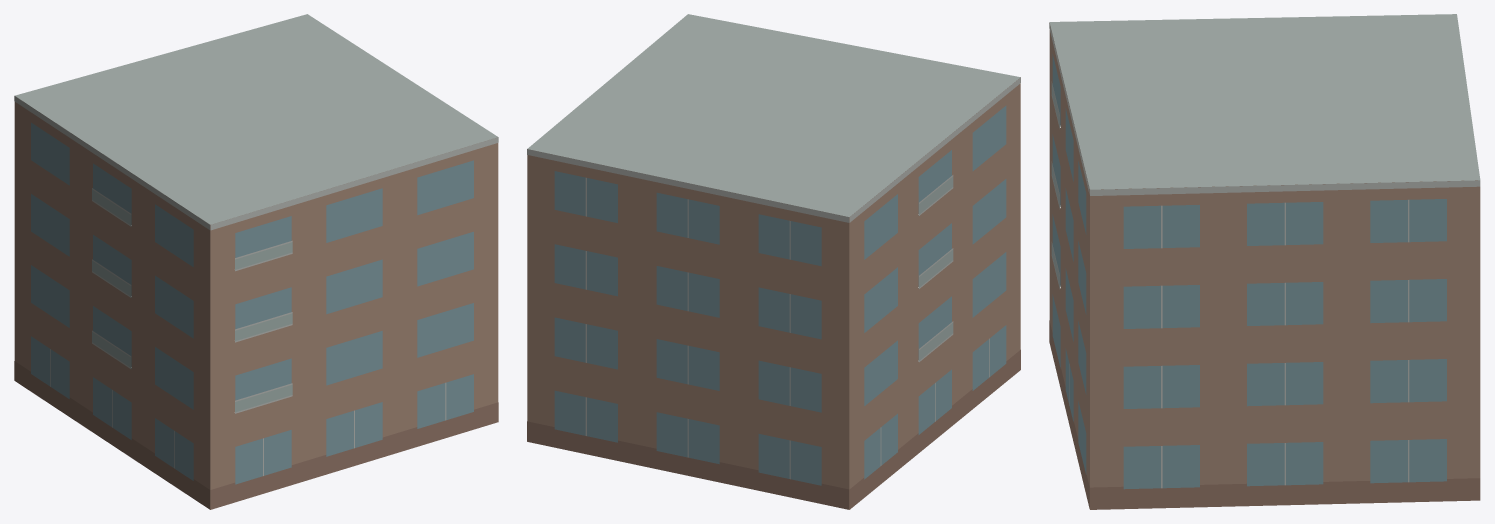
File: survey-upis-32647124.glb
3 renders of one model, left to right at view 1: azimuth 30°, elevation 25°; view 2: azimuth 150°, elevation 25°; view 3: azimuth 270°, elevation 25°, orthographic. The views are drawn at different scales.
Parts seen in each view (by area): view 1: survey-upis-32647124.tmp; view 2: survey-upis-32647124.tmp; view 3: survey-upis-32647124.tmp.
Boxes of the visible parts, left/top/right/bottom form: survey-upis-32647124.tmp: left=14, top=14, right=498, bottom=509; survey-upis-32647124.tmp: left=527, top=14, right=1020, bottom=509; survey-upis-32647124.tmp: left=1049, top=14, right=1480, bottom=509.
Size of the model in its own units: 14.37 by 12.2 by 14.89.
